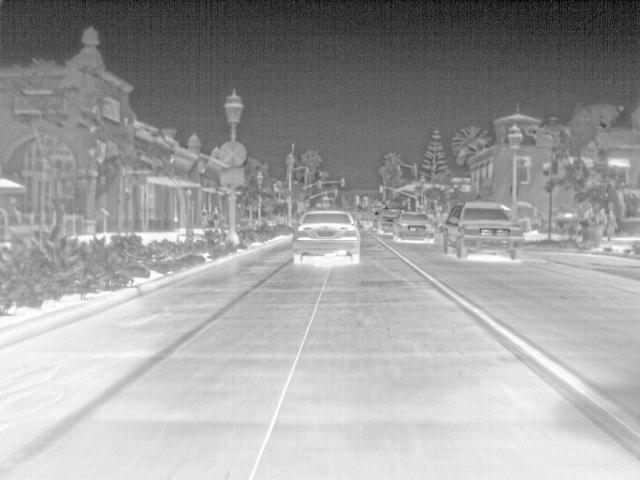car: (441, 199, 524, 258), (292, 208, 364, 264), (393, 209, 435, 241), (382, 213, 398, 234)
person: (595, 206, 610, 236), (606, 210, 619, 243)
